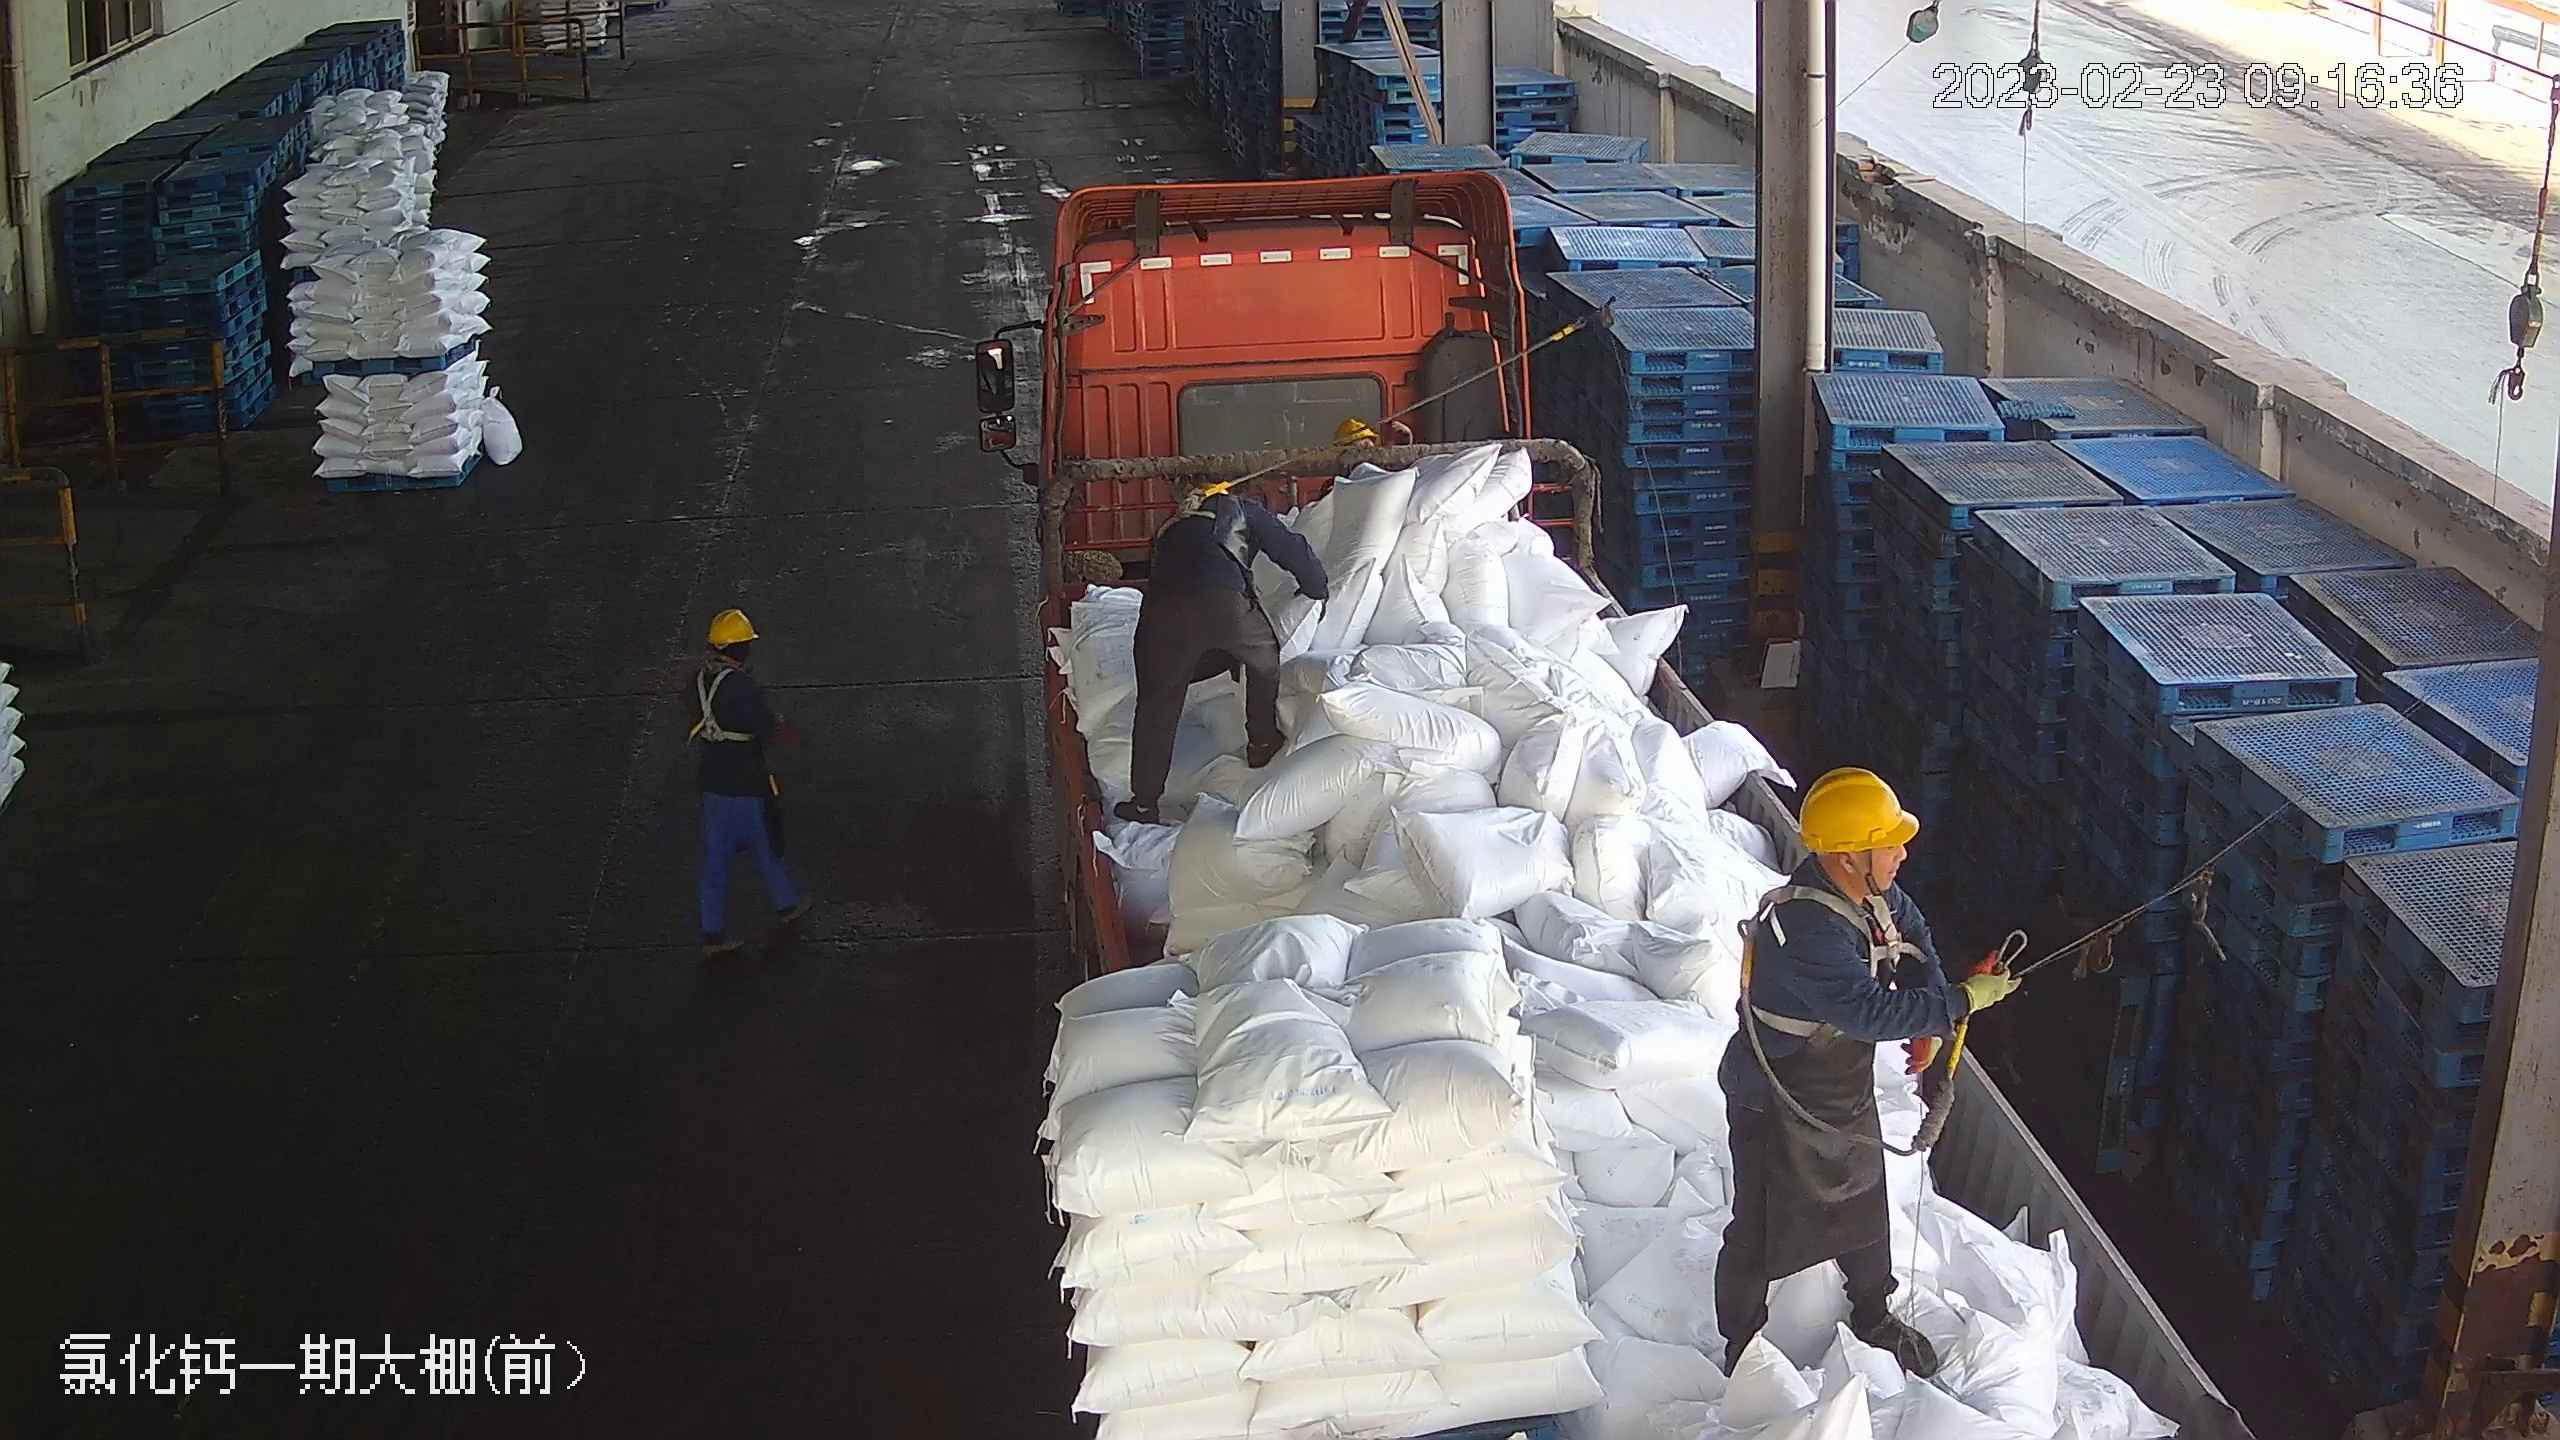belt: (1758, 885, 1921, 1037), (1176, 483, 1260, 561), (685, 666, 754, 743)
head: (1758, 764, 1934, 978), (685, 607, 771, 706)
helmet: (1792, 762, 1921, 850), (703, 606, 759, 646), (1330, 415, 1376, 448)
people: (1710, 762, 2021, 1377), (1118, 480, 1332, 829), (676, 601, 817, 954)
truck: (978, 169, 2259, 1431)
